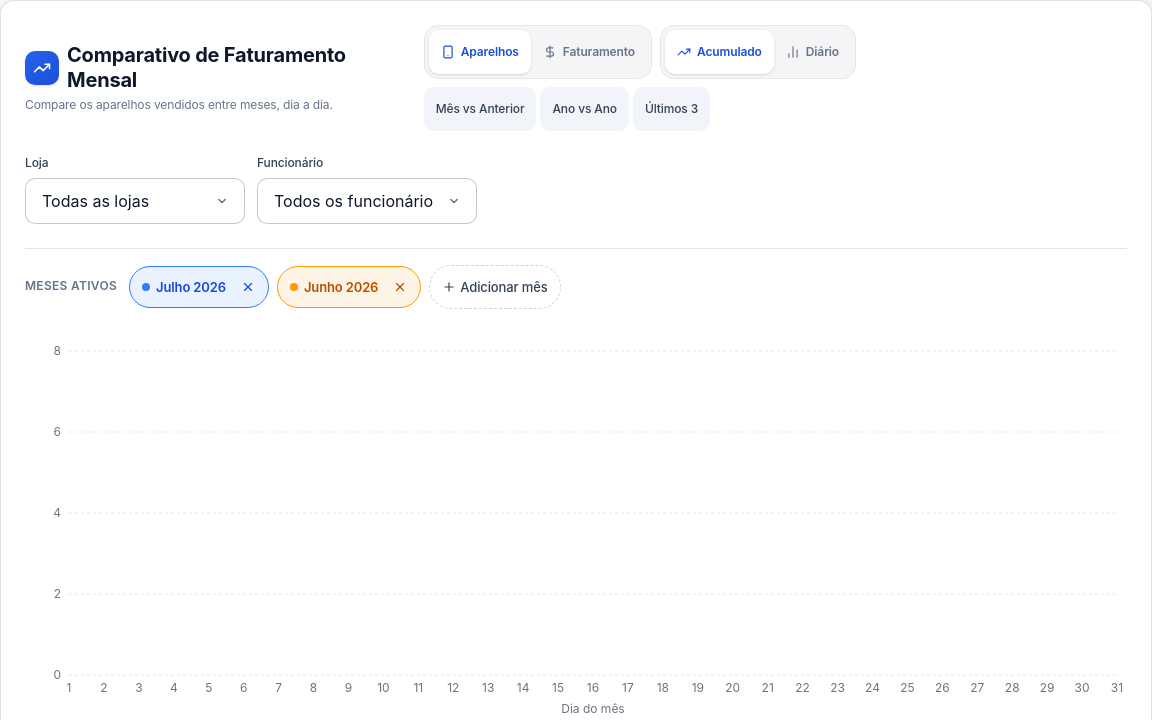
MonthlyRevenueComparisonChart › filtros de loja e funcionário › narrows the revenue to the selected store
Select "Loja Centro" in the dropdown labelled "Loja" at (135, 201), box [25,178,245,224]
(page scrolled)
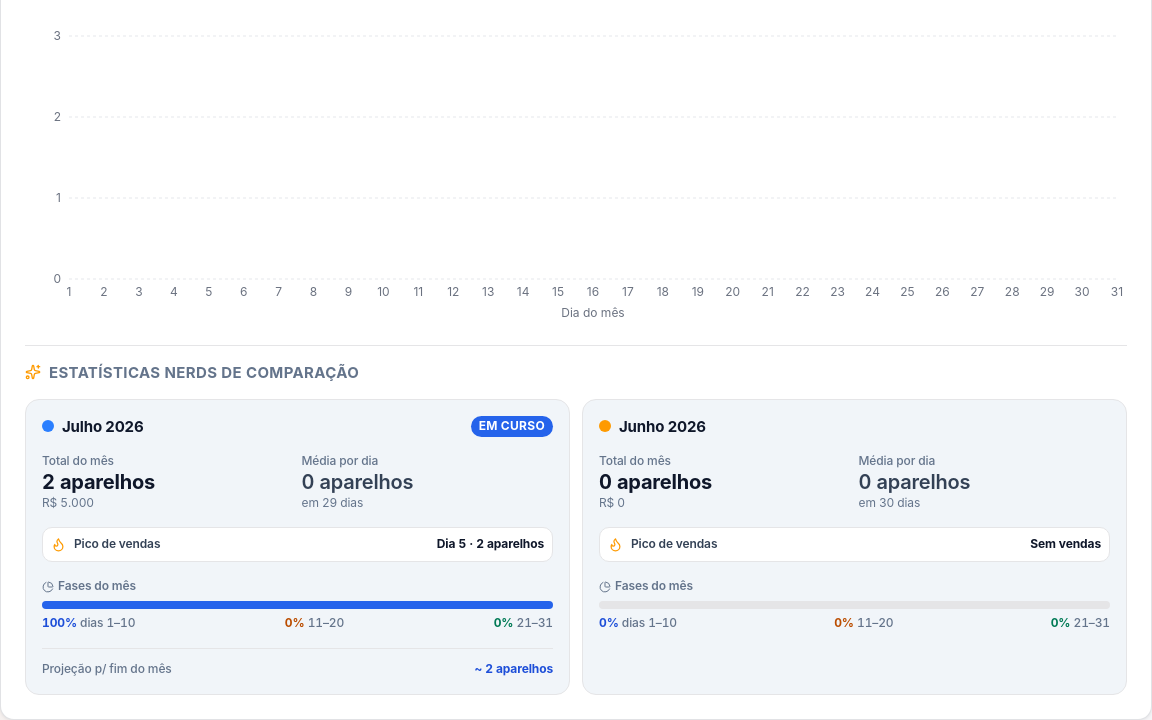
Now the text "R$ 5.000" is shown, box [42,495,94,510]
Now the text "2 aparelhos" is shown, box [42,470,155,494]
